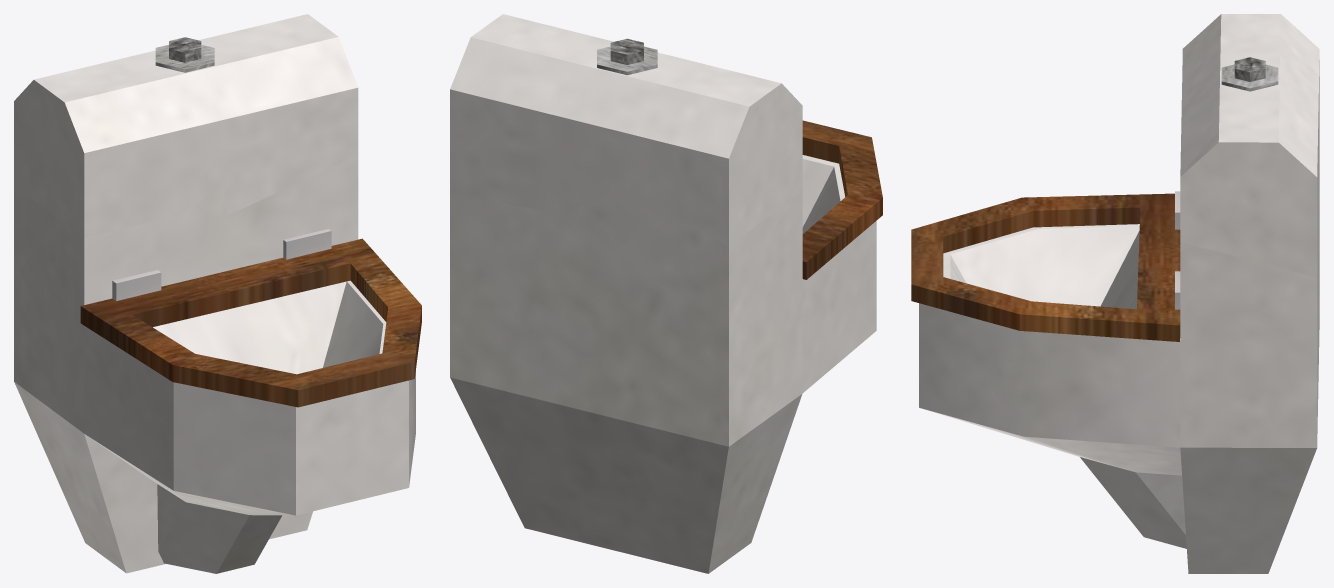
File: toilet.FBX
3 views of the same model, side by side, from view 1: azimuth 30°, elevation 25°; view 2: azimuth 150°, elevation 25°; view 3: azimuth 270°, elevation 25° (orthographic). The views are drawn at different scales.
Visible parts, largest first — view 1: Object008, Cylinder001, Object005, Box001, Cylinder002, Object003; view 2: Object008, Cylinder001, Object005, Cylinder002, Object003; view 3: Object008, Cylinder001, Object005, Cylinder002, Object003.
Part boxes in pixels (bbox=[...]): Object008: bbox=[14, 155, 415, 573]; Cylinder001: bbox=[14, 14, 358, 237]; Object005: bbox=[80, 238, 421, 407]; Box001: bbox=[112, 229, 331, 301]; Cylinder002: bbox=[155, 44, 214, 72]; Object003: bbox=[169, 37, 201, 62]; Object008: bbox=[450, 155, 876, 573]; Cylinder001: bbox=[450, 14, 802, 247]; Object005: bbox=[802, 120, 882, 279]; Cylinder002: bbox=[597, 46, 657, 75]; Object003: bbox=[610, 38, 643, 64]; Object008: bbox=[919, 136, 1319, 573]; Cylinder001: bbox=[1180, 14, 1319, 277]; Object005: bbox=[911, 193, 1180, 341]; Cylinder002: bbox=[1221, 64, 1278, 91]; Object003: bbox=[1234, 57, 1265, 81].
Size of the model in its own units: 50.94 by 83.89 by 66.54.
Materials: 6 (6 with a texture image).
